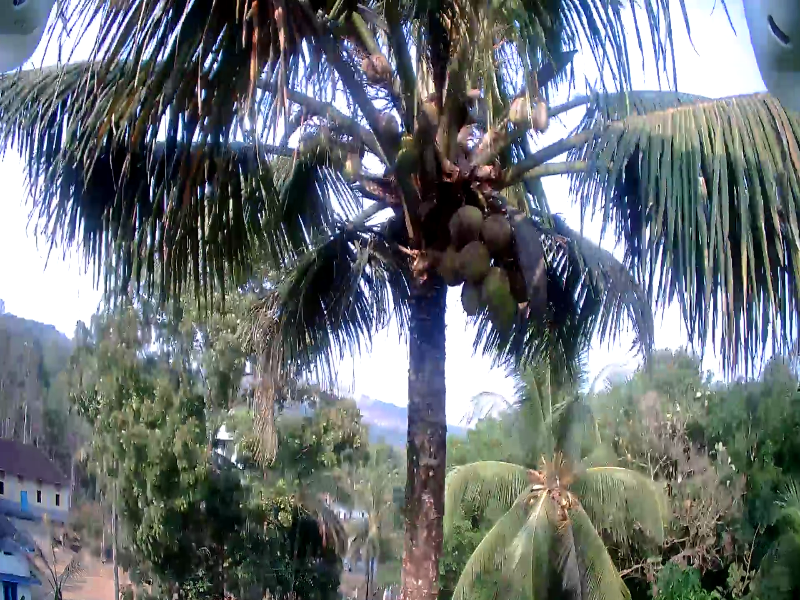coconut: (451, 240, 484, 273), (477, 204, 505, 242), (454, 202, 481, 238), (488, 295, 516, 329), (363, 54, 390, 85), (436, 250, 461, 282), (527, 97, 548, 133), (460, 280, 481, 315), (373, 110, 396, 139), (396, 148, 422, 173), (304, 132, 321, 163), (483, 260, 497, 297), (510, 97, 527, 127), (340, 149, 355, 177)
